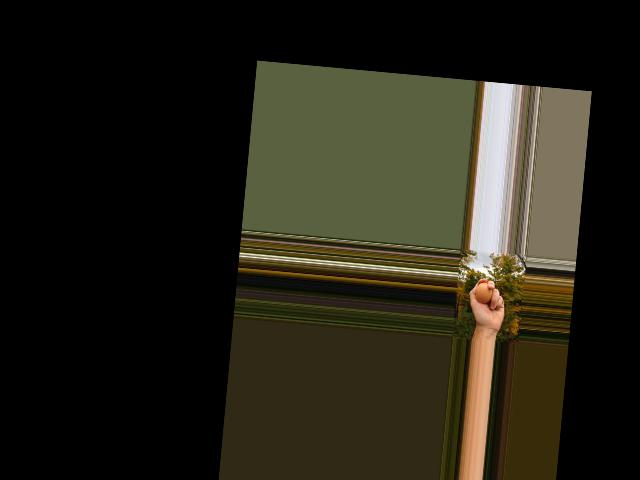egg: (475, 282, 493, 304)
